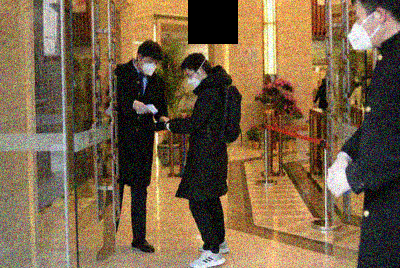with_mask: (348, 8, 377, 54), (141, 58, 159, 78), (186, 73, 201, 88), (356, 76, 361, 84)
